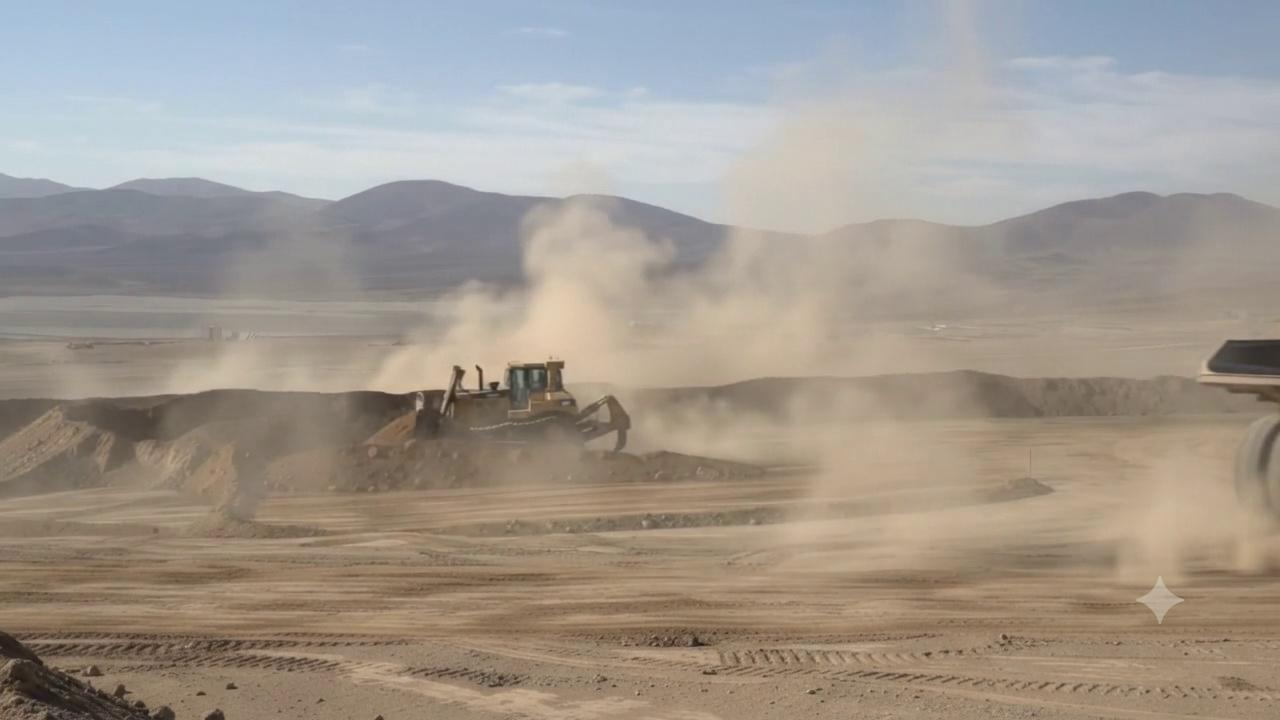CAEX: (1200, 338, 1279, 403), (1237, 416, 1279, 516)
bulldozer: (415, 360, 629, 451)
